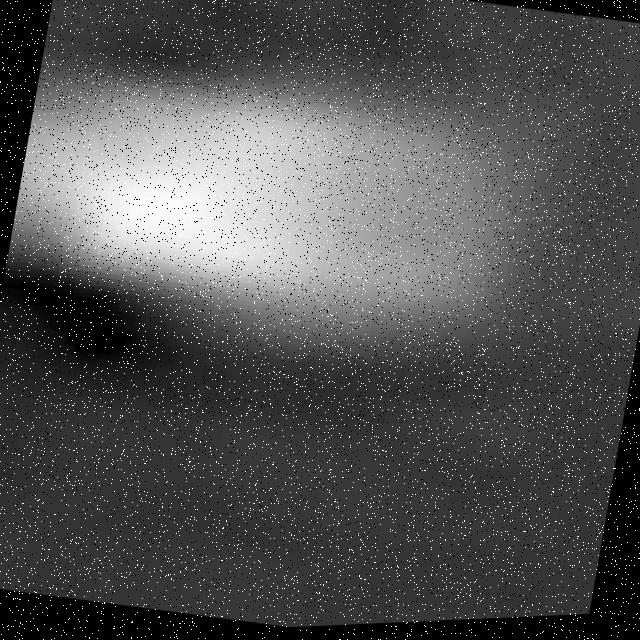person: (1, 31, 540, 383)
